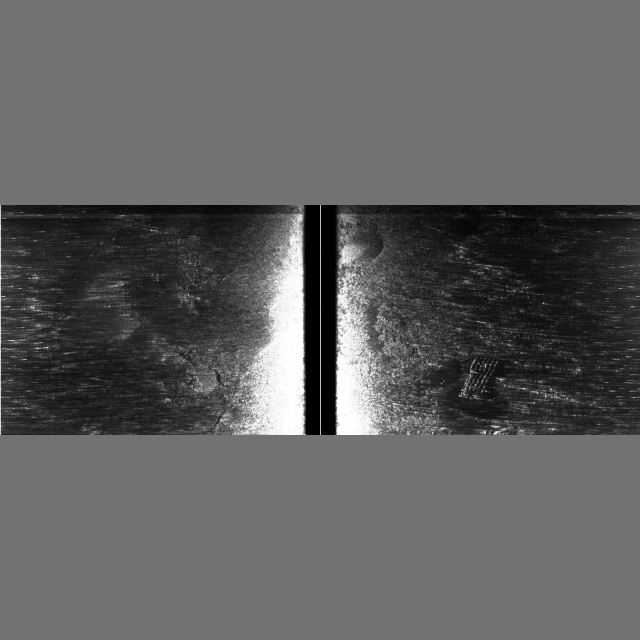Shipwreck: (458, 356, 521, 435)
